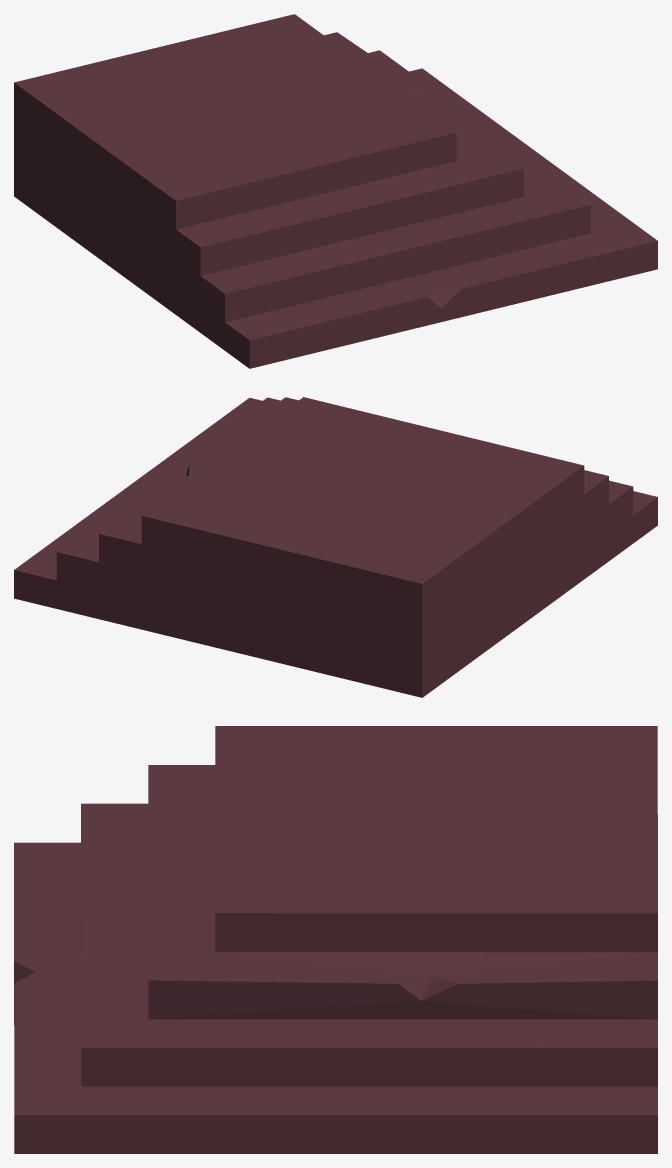
File: SM_Stairs_Corner_Big_Empire.fbx
3 views of the same model, one above another, from view 1: azimuth 30°, elevation 25°; view 2: azimuth 150°, elevation 25°; view 3: azimuth 270°, elevation 25° (orthographic). The views are drawn at different scales.
Parts seen in each view (by area): view 1: SM_Stairs_Corner_Big_Empire; view 2: SM_Stairs_Corner_Big_Empire; view 3: SM_Stairs_Corner_Big_Empire.
Part boxes in pixels (left/top/right/bottom): SM_Stairs_Corner_Big_Empire: left=14, top=14, right=657, bottom=368; SM_Stairs_Corner_Big_Empire: left=14, top=397, right=657, bottom=697; SM_Stairs_Corner_Big_Empire: left=14, top=726, right=657, bottom=1153.
Size of the model in its own units: 3 by 0.8012 by 3.
